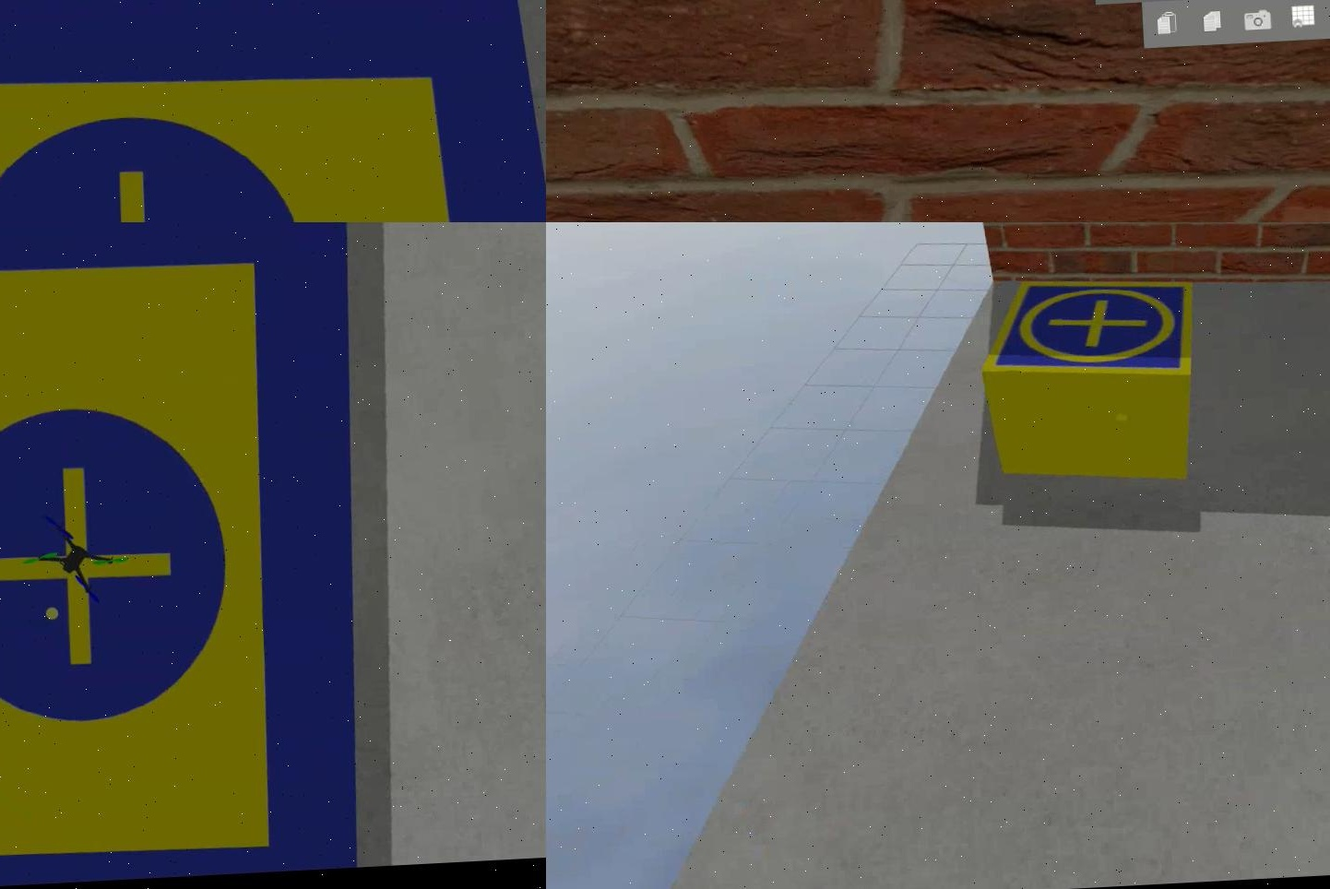large_base: (0, 223, 387, 889), (0, 1, 545, 223)
small_base: (976, 275, 1196, 393)
